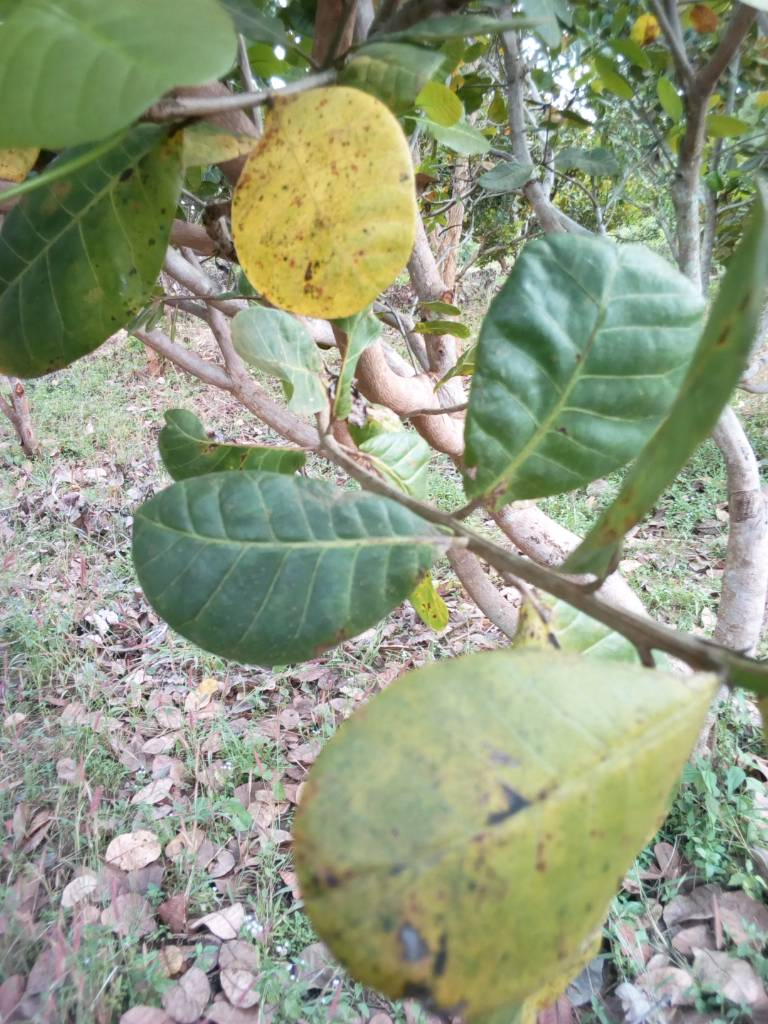Anthracnose: (286, 655, 724, 1007), (1, 121, 190, 385), (233, 89, 416, 321)
